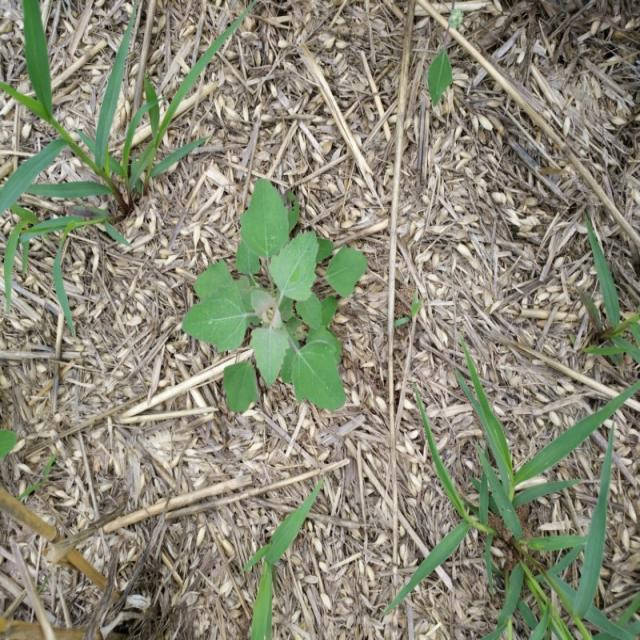goosefoots: (172, 197, 370, 430)
